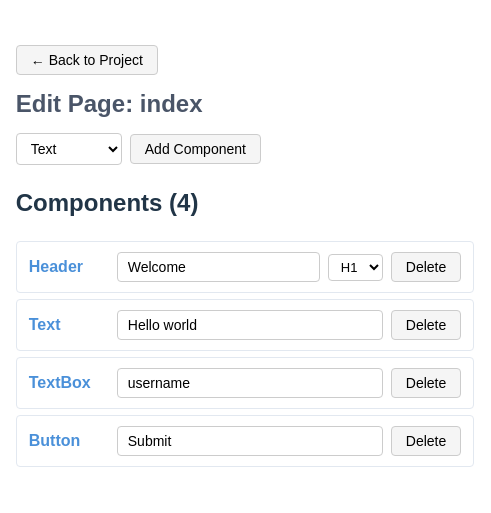
Test: PageEditor adds a new component
The image size is (491, 513).
Click the button "Add Component": (195, 149) [130,134,261,164]
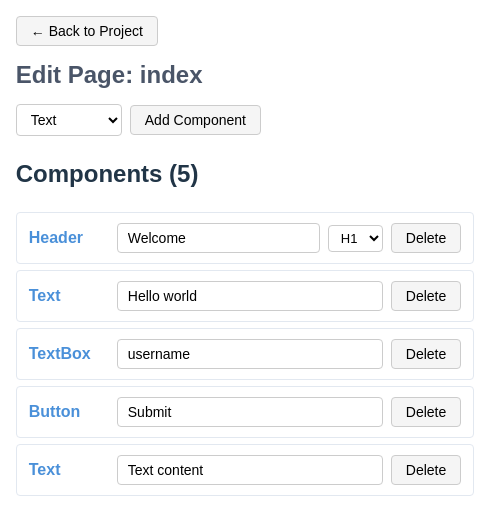
Expected: the number of buttons "Delete" is 5, [391,223,461,253]; [391,281,461,311]; [391,339,461,369]; [391,397,461,427]; [391,455,461,485]
